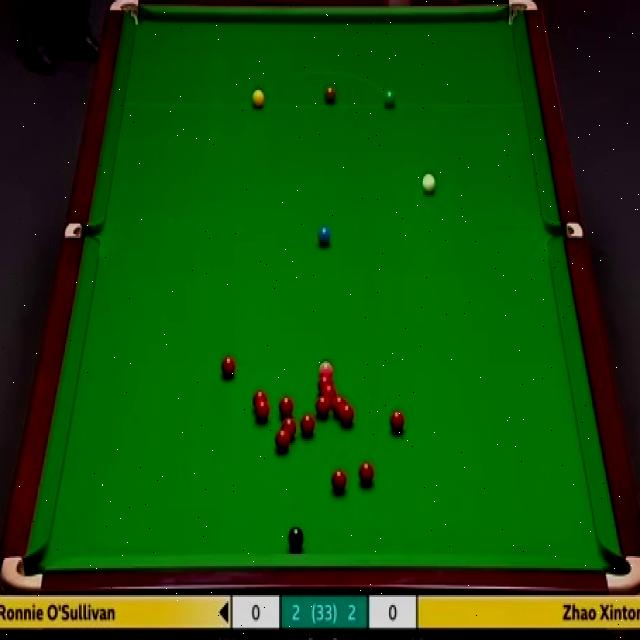black-ball: (286, 524, 304, 548)
blue-ball: (317, 227, 332, 244)
brown-ball: (325, 86, 336, 104)
green-ball: (382, 87, 397, 109)
pink-ball: (318, 361, 335, 375)
red-ball: (388, 406, 404, 433), (220, 354, 236, 379), (276, 426, 292, 449), (315, 395, 330, 419), (301, 411, 316, 435), (330, 465, 345, 489), (338, 403, 354, 424), (256, 399, 270, 422), (278, 395, 294, 415), (358, 460, 372, 482), (320, 384, 336, 402), (282, 420, 297, 439), (332, 392, 346, 412), (252, 389, 265, 409), (315, 375, 332, 389)
white-ball: (422, 172, 435, 194)
yellow-ball: (252, 88, 265, 109)
